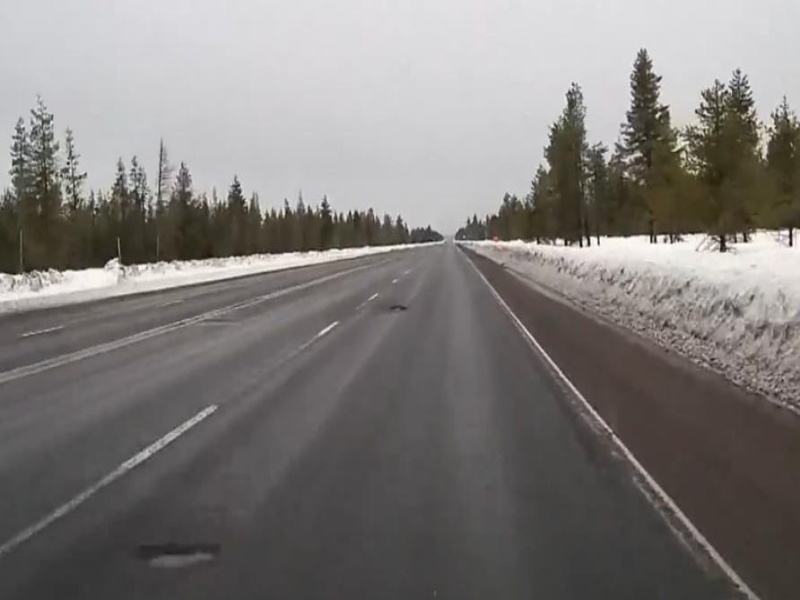pothole: (144, 540, 220, 568)
